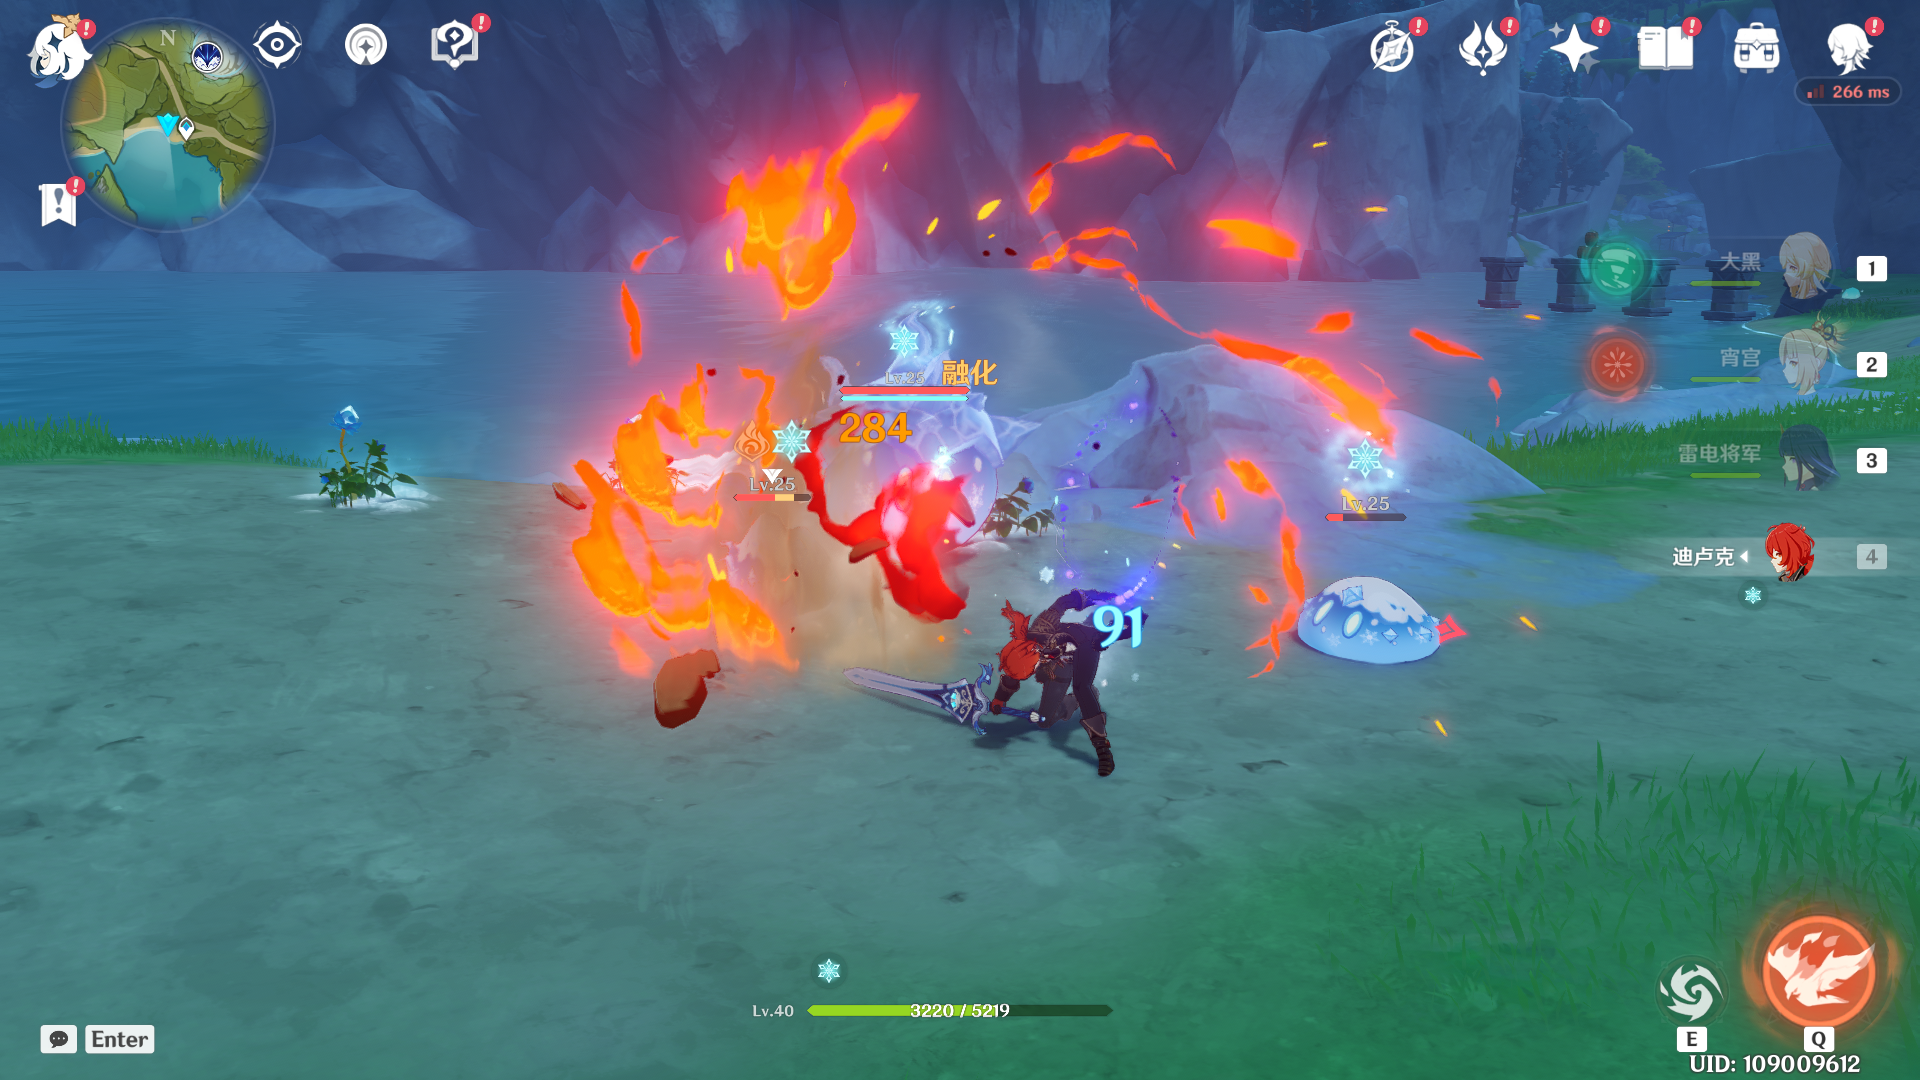character: (855, 574, 1166, 796)
slime: (781, 373, 1029, 567), (1288, 560, 1461, 691)
